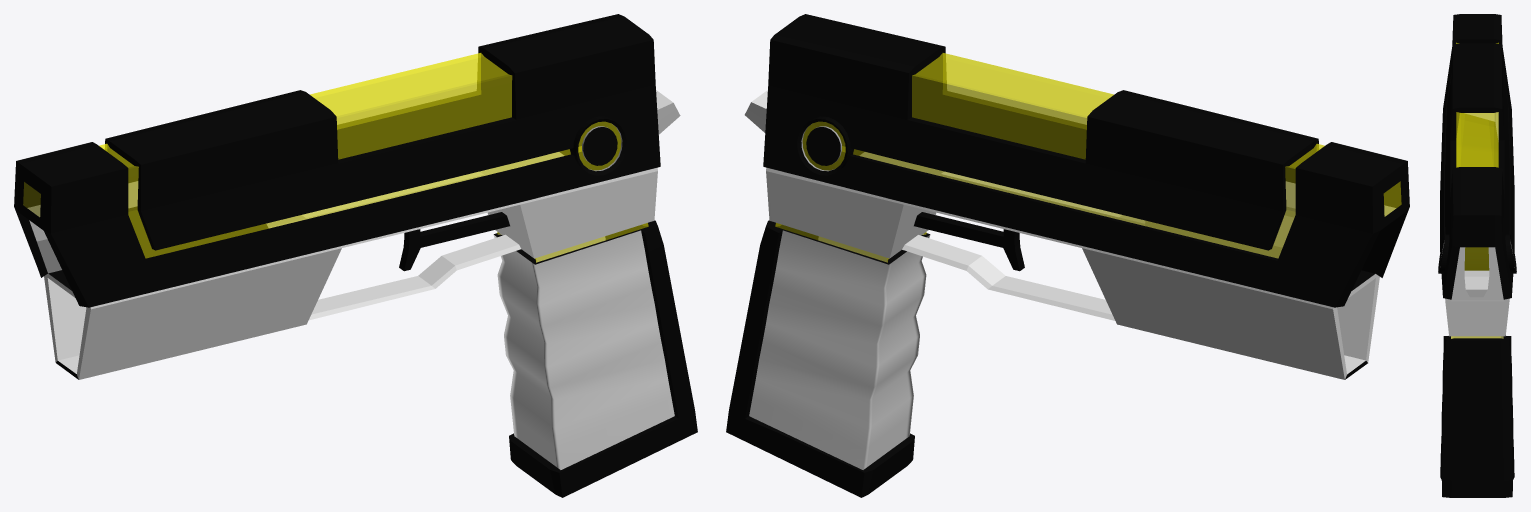
File: Pistol.fbx
The picture shows the model from 3 angles, left to right: view 1: azimuth 30°, elevation 25°; view 2: azimuth 150°, elevation 25°; view 3: azimuth 270°, elevation 25°; orthographic projection. The views are drawn at different scales.
Parts seen in each view (by area): view 1: pCube2, pCylinder1, pCube3; view 2: pCube2, pCylinder1, pCube3; view 3: pCube2, pCylinder1.
Boxes of the visible parts, x1,y1,x2,y2 form: pCube2: (14, 14, 697, 497); pCylinder1: (560, 116, 626, 175); pCube3: (399, 212, 509, 271); pCube2: (726, 14, 1409, 497); pCylinder1: (797, 116, 863, 175); pCube3: (914, 212, 1024, 271); pCube2: (1440, 14, 1514, 497); pCylinder1: (1438, 234, 1516, 273).
Size of the model in its own units: 7.87 by 5.06 by 1.22.
